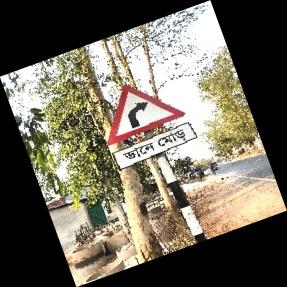Right-turn: (106, 84, 199, 171)
